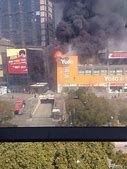smoke: (53, 1, 126, 53)
